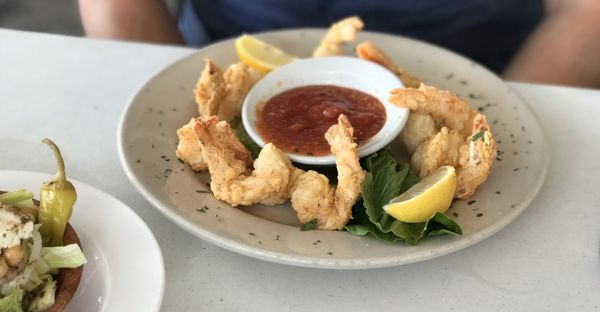salad: (39, 137, 78, 247)
